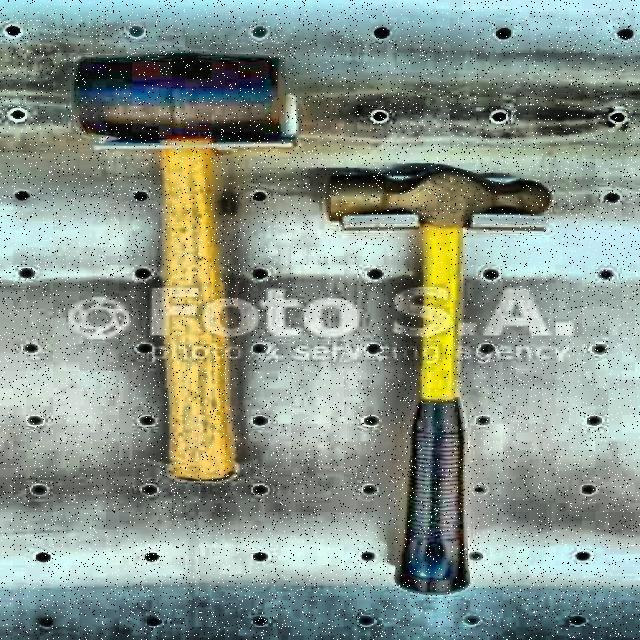hammer: (330, 165, 567, 587)
